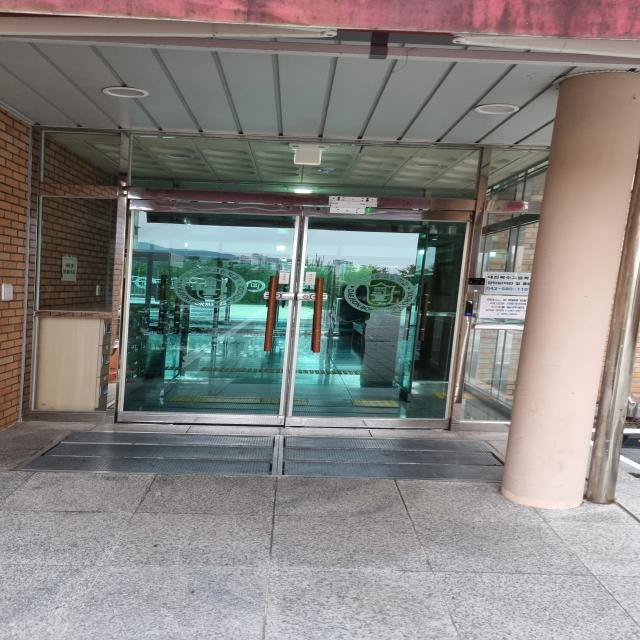logo: (343, 272, 418, 316), (172, 266, 248, 308), (244, 280, 267, 293), (296, 280, 313, 292), (496, 312, 500, 316)
